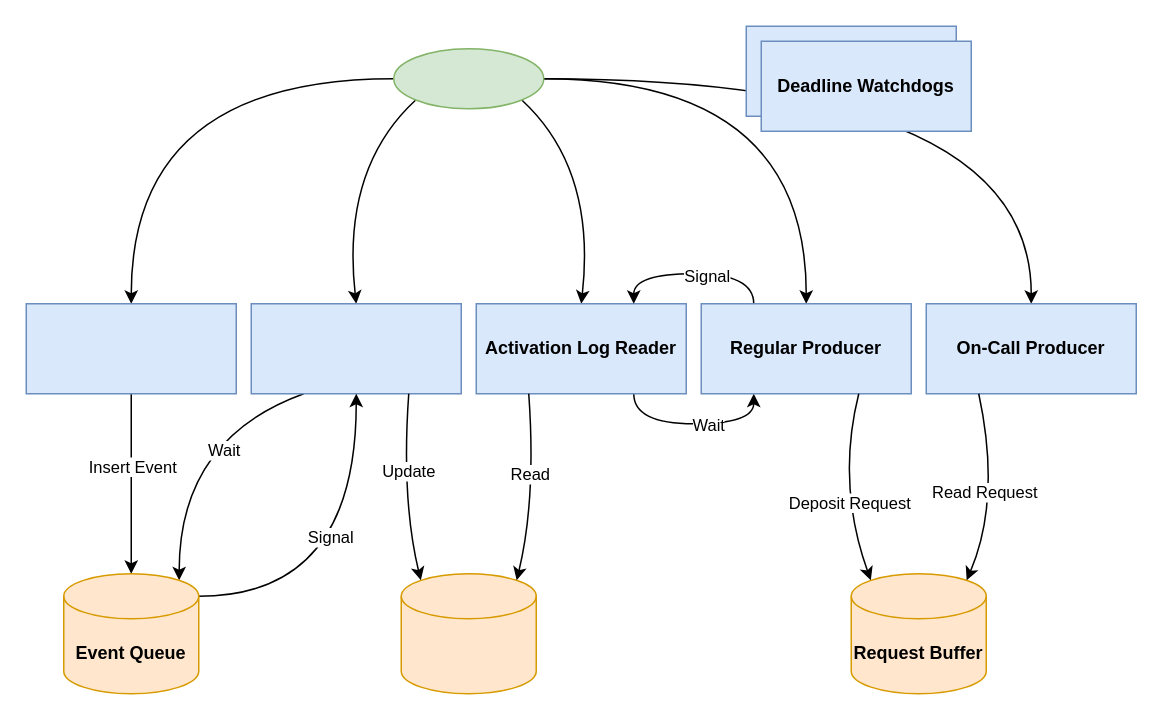
Some shapes in this 1163 by 720 pixel diagram are drawn without their labels. Each missing label, with the centre of its shape:
Activation Log: the point at 468,633
External Event Server: the point at 355,348
Interrupt Generator: the point at 130,348
Start: the point at 468,78
